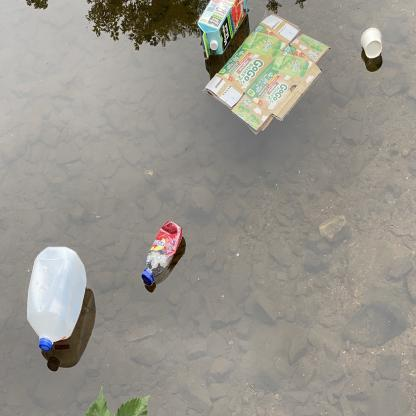trash: (201, 10, 333, 138), (24, 240, 92, 354), (136, 216, 187, 292), (194, 0, 248, 63), (359, 23, 386, 63)
